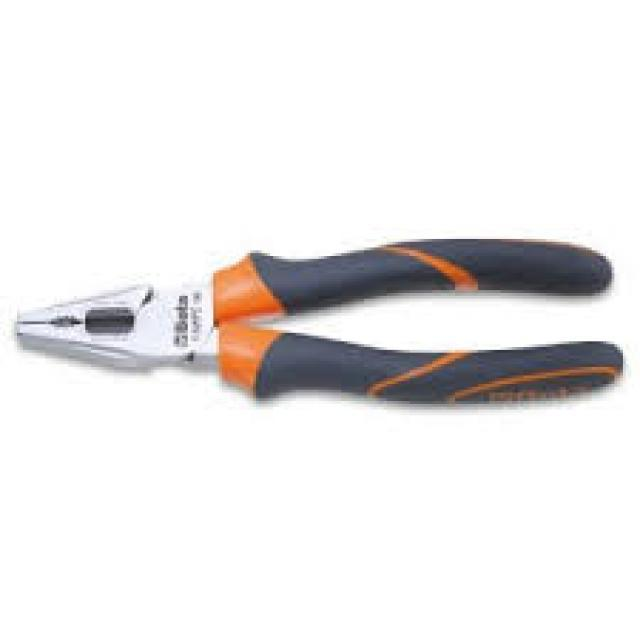pliers: (8, 232, 633, 412)
